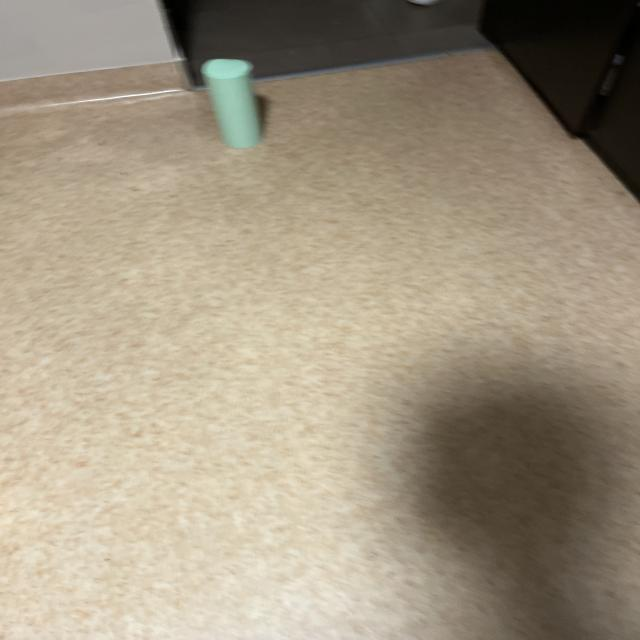meta: (201, 59, 261, 148)
